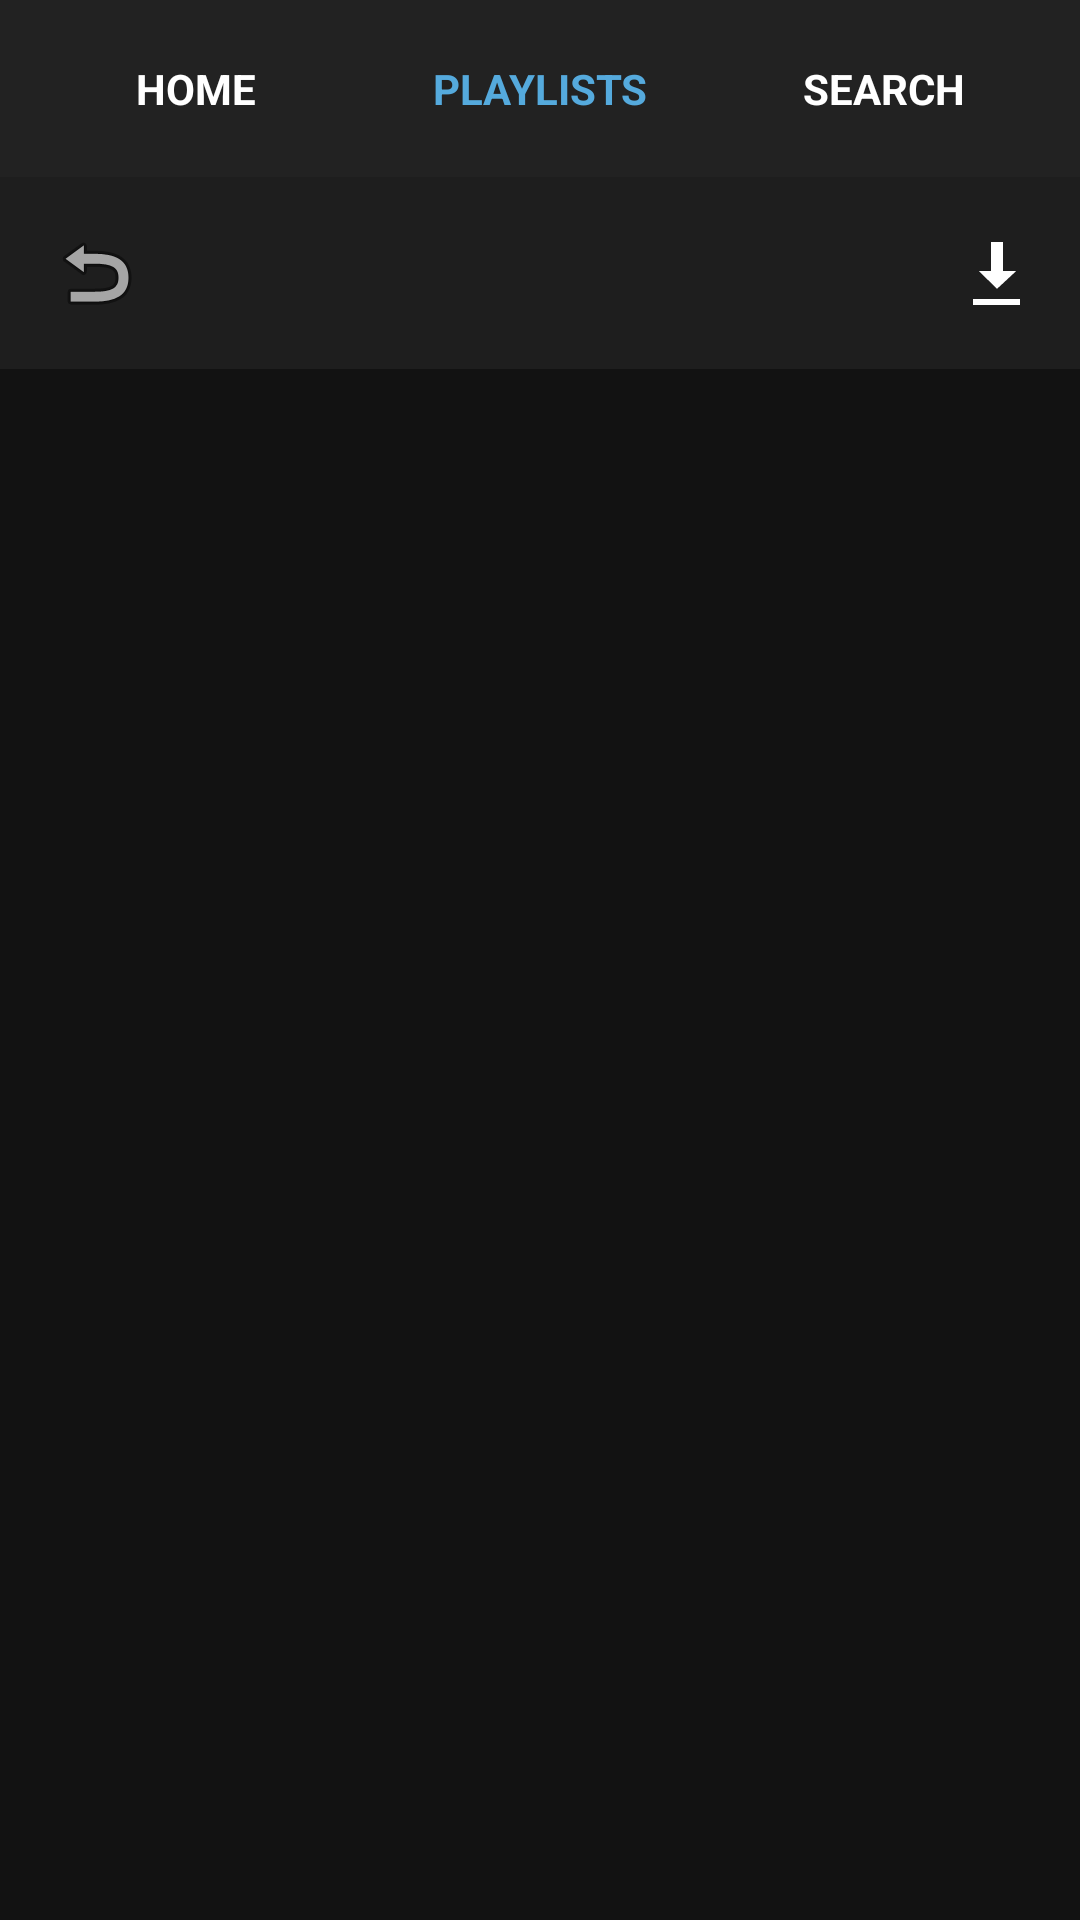

Where to tap for icons on this 1080x1920 app screen, as point (x, y):
Back: point (97, 273)
Download Playlist: point (996, 273)
